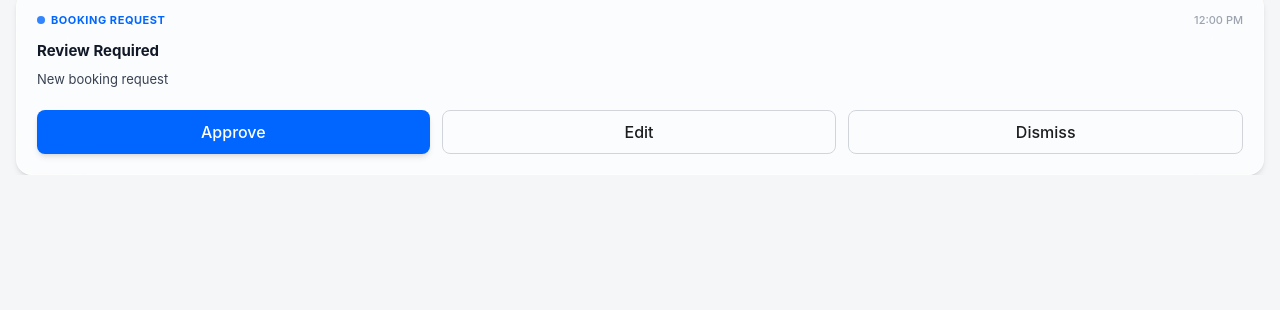
it: FeedPage › lets the owner edit a generic proposed action before approval
Later steps or results of the test are not shown.
Expected: the text "New booking request" is shown, [37, 71, 168, 87]
Click the button "Edit": (639, 132) [442, 110, 836, 154]
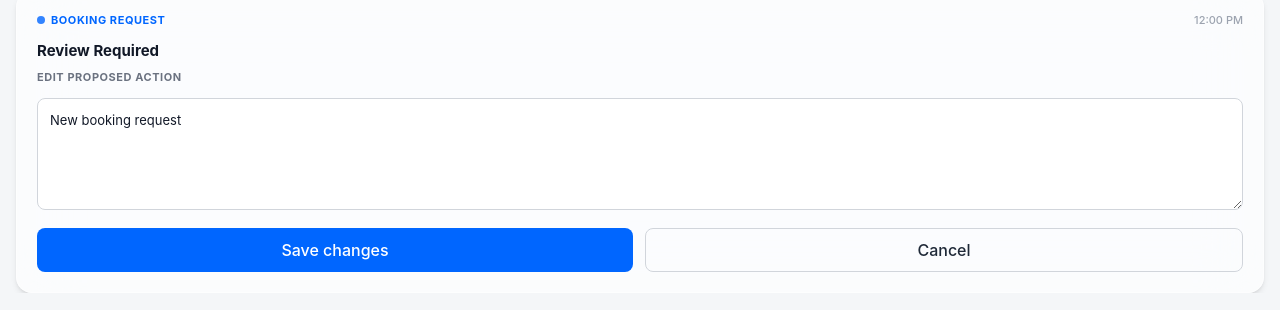
Result: the text box labelled "Edit proposed action" holds "New booking request" at [37, 98, 1243, 210]
